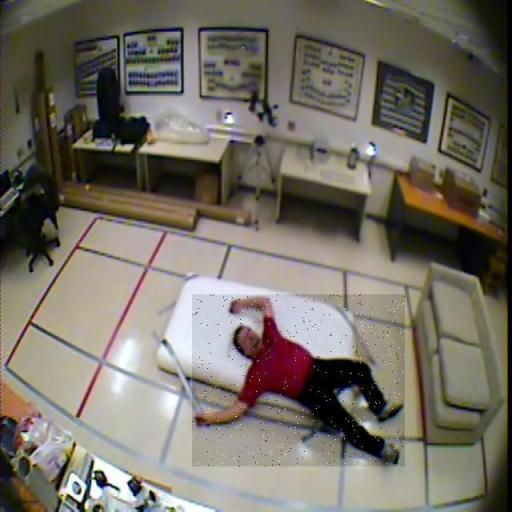Fall: (192, 295, 405, 467)
